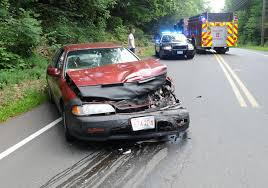Headlight-Damage: (154, 83, 180, 112)
bonnet-dent: (65, 61, 170, 96)
front-bumper-dent: (129, 110, 203, 141)
